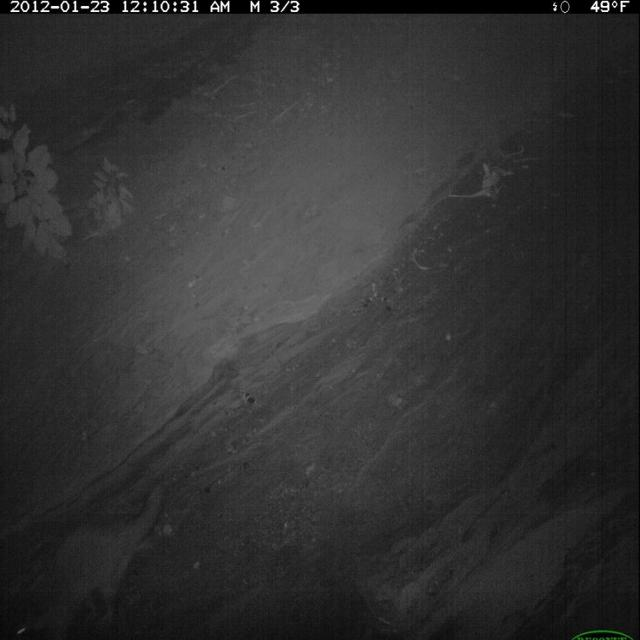raccoon: (12, 478, 169, 640)
